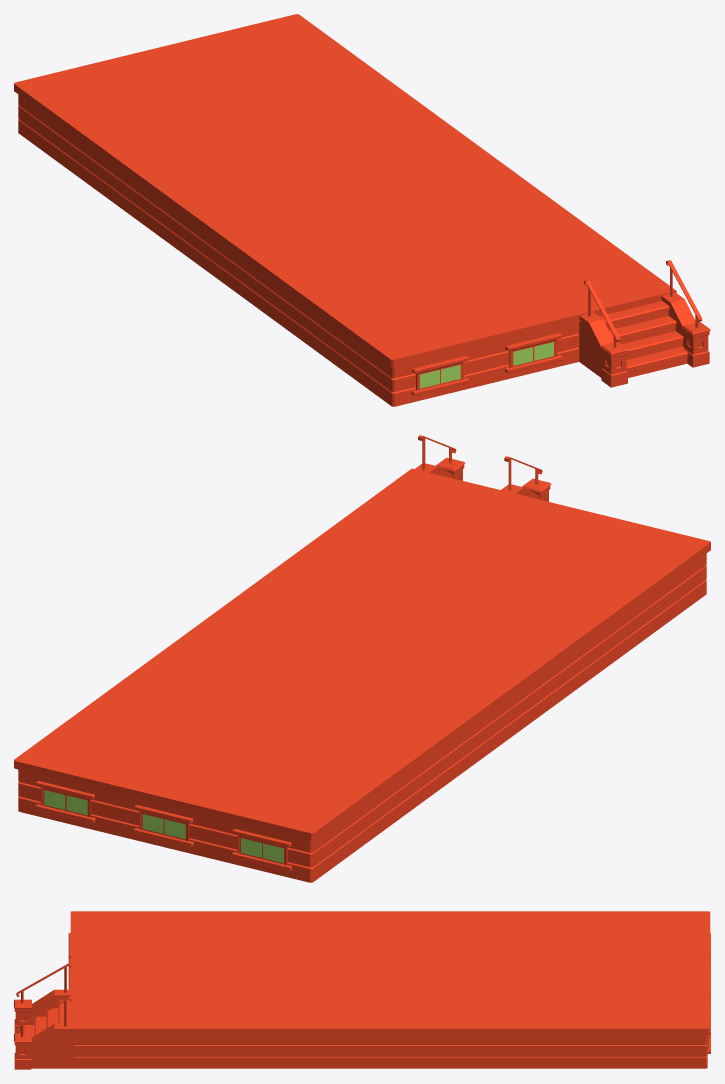
The model's file is SM_Squarehouse_Bottom_Small_B_FB_City.fbx.
3 views of the same model, one above another, from view 1: azimuth 30°, elevation 25°; view 2: azimuth 150°, elevation 25°; view 3: azimuth 270°, elevation 25° (orthographic). The views are drawn at different scales.
Parts seen in each view (by area): view 1: SM_Squarehouse_Bottom_Small_B_FB_City; view 2: SM_Squarehouse_Bottom_Small_B_FB_City; view 3: SM_Squarehouse_Bottom_Small_B_FB_City.
Part boxes in pixels (x1,y1,x2,y2): SM_Squarehouse_Bottom_Small_B_FB_City: [14, 14, 710, 406]; SM_Squarehouse_Bottom_Small_B_FB_City: [14, 435, 710, 882]; SM_Squarehouse_Bottom_Small_B_FB_City: [14, 911, 710, 1069].
Bounding box in the file's own units: 6.13 × 1.67 × 15.33.
